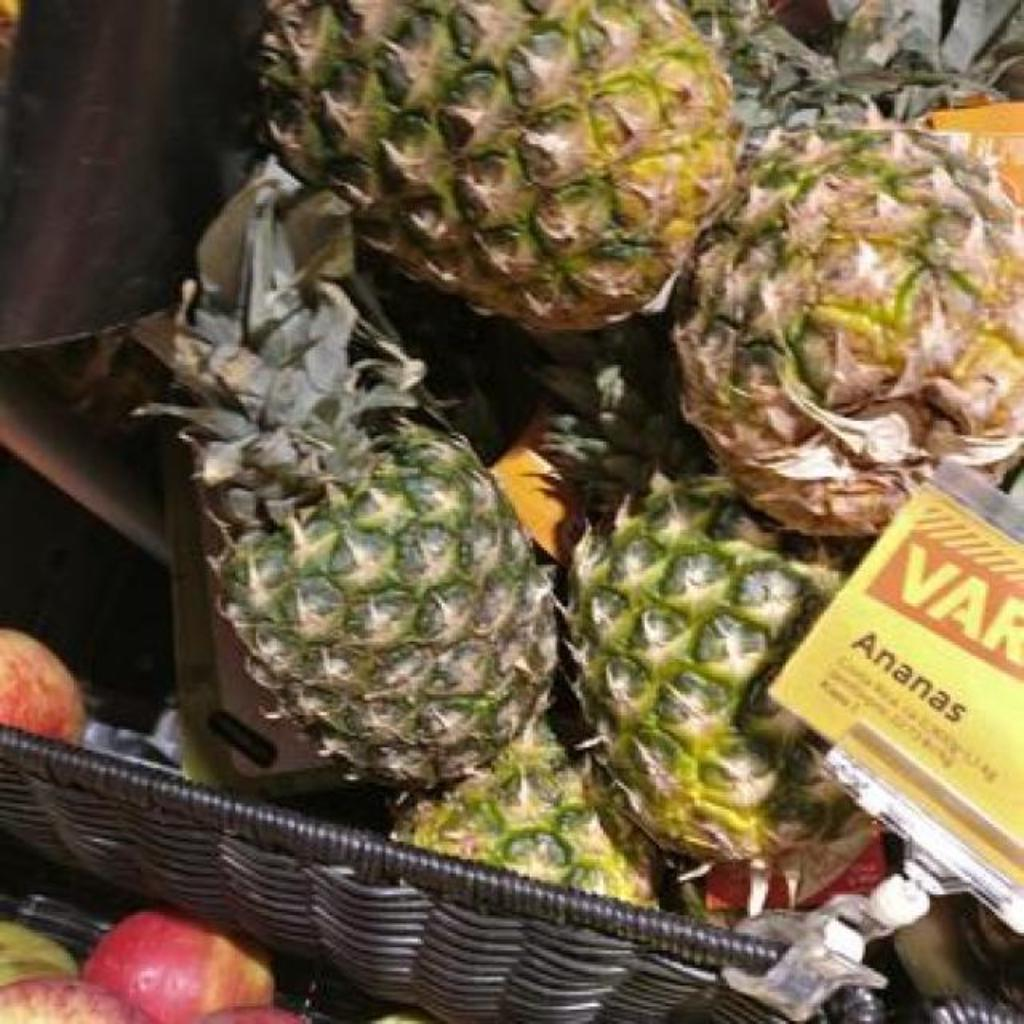pineapple: (148, 164, 556, 787), (268, 0, 740, 329), (674, 126, 1024, 535), (566, 480, 854, 861), (396, 722, 648, 903)
